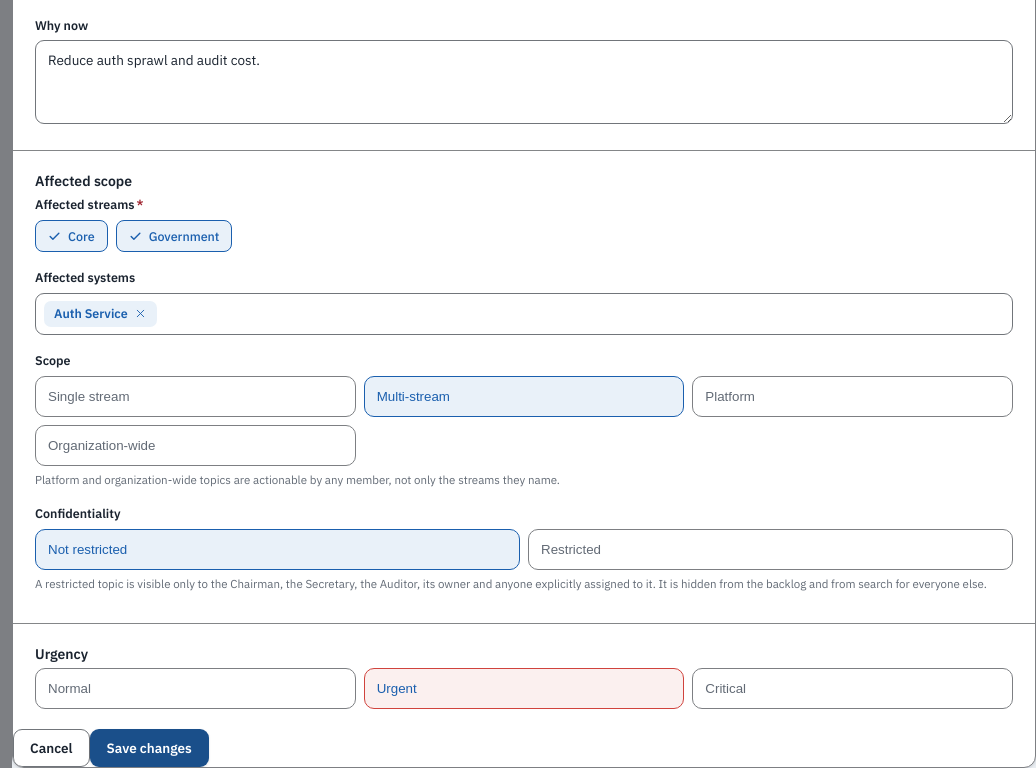
Test: EditTopic (AC-034) › shows a save failure and stays on the form
(page scrolled)
Click the button "Save changes".
click(149, 748)  # box [90,729,209,767]
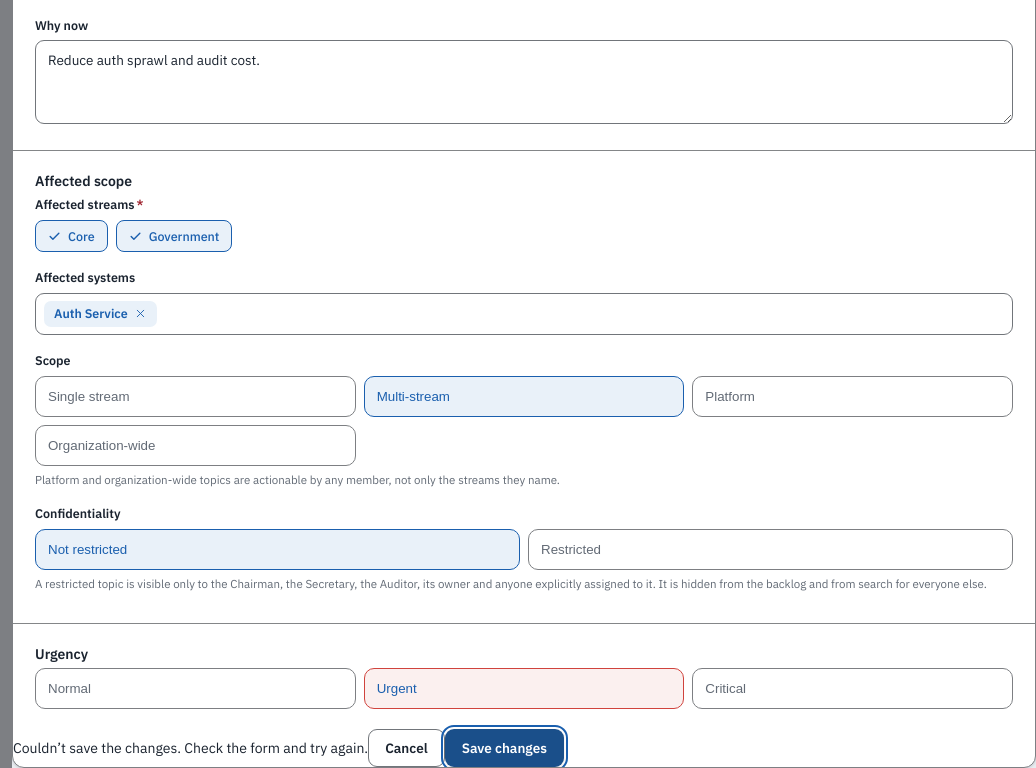
expect the message shows "Couldn’t save": met, box [13,739,368,757]
